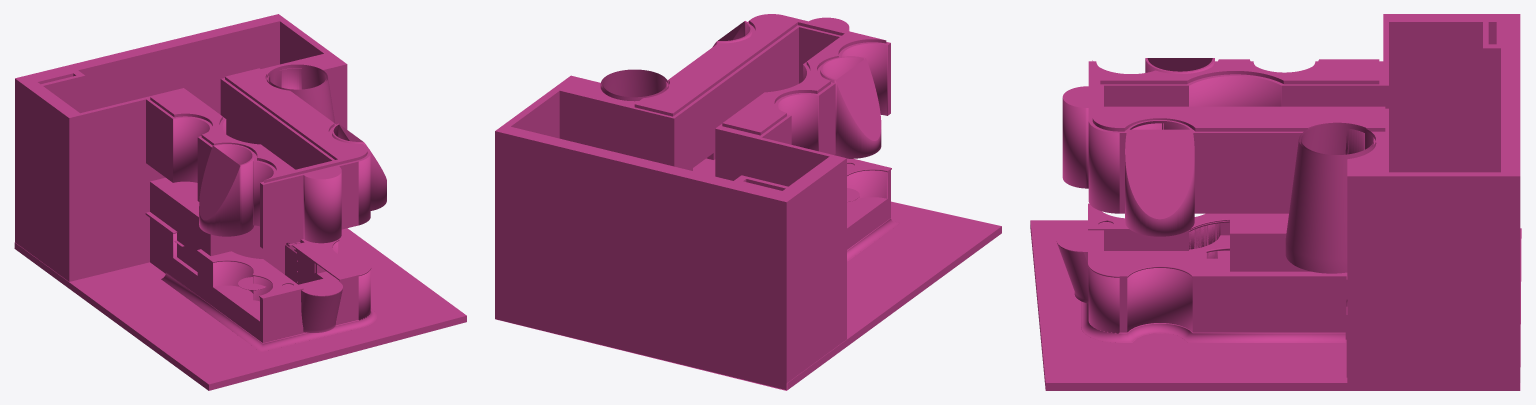
Rendered from asset.glb.
3 renders of one model, left to right at view 1: azimuth 30°, elevation 25°; view 2: azimuth 150°, elevation 25°; view 3: azimuth 270°, elevation 25°, orthographic. The views are drawn at different scales.
Parts seen in each view (by area): view 1: the final model.001, Cube.001; view 2: the final model.001; view 3: the final model.001, Cube.001.
Boxes of the visible parts, bbox=[...] form: the final model.001: bbox=[14, 14, 466, 390]; Cube.001: bbox=[150, 177, 286, 274]; the final model.001: bbox=[495, 14, 1001, 390]; the final model.001: bbox=[1030, 14, 1521, 390]; Cube.001: bbox=[1230, 213, 1310, 271].
Size of the model in its own units: 4.98 by 3.12 by 6.36.
